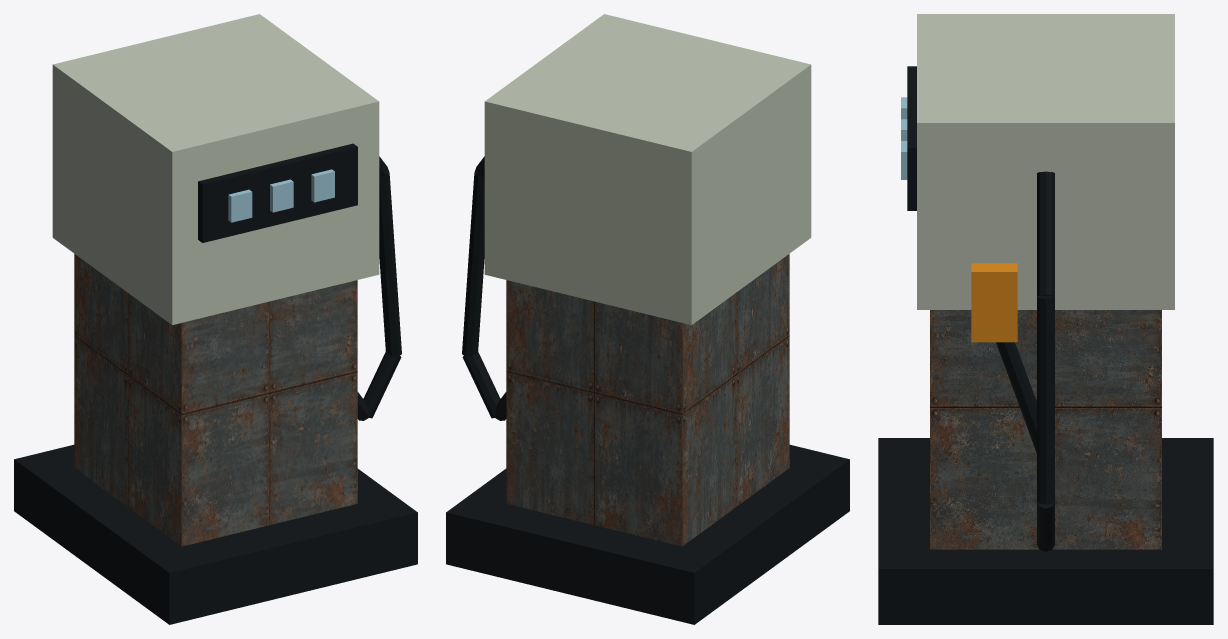
The model's file is FuelPump.obj.
The picture shows the model from 3 angles, left to right: view 1: azimuth 30°, elevation 25°; view 2: azimuth 150°, elevation 25°; view 3: azimuth 270°, elevation 25°; orthographic projection. The views are drawn at different scales.
Visible parts, largest first — view 1: FuelPump; view 2: FuelPump; view 3: FuelPump.
Part boxes in pixels (x1=…): FuelPump: x1=14, y1=14, x2=417, y2=624; FuelPump: x1=446, y1=14, x2=849, y2=624; FuelPump: x1=878, y1=14, x2=1213, y2=624.
Size of the model in its own units: 1.49 by 2.1 by 1.3.
Materials: 5 (1 with a texture image).
